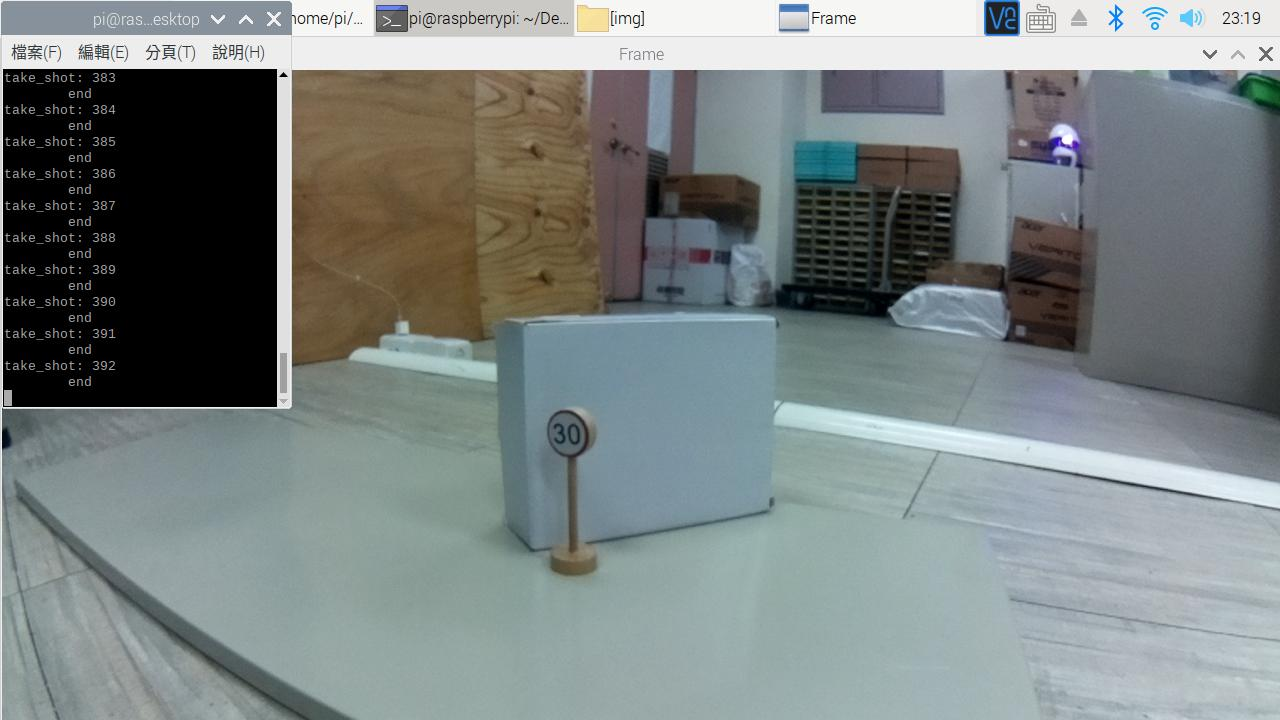Speed30: (530, 405, 616, 470)
